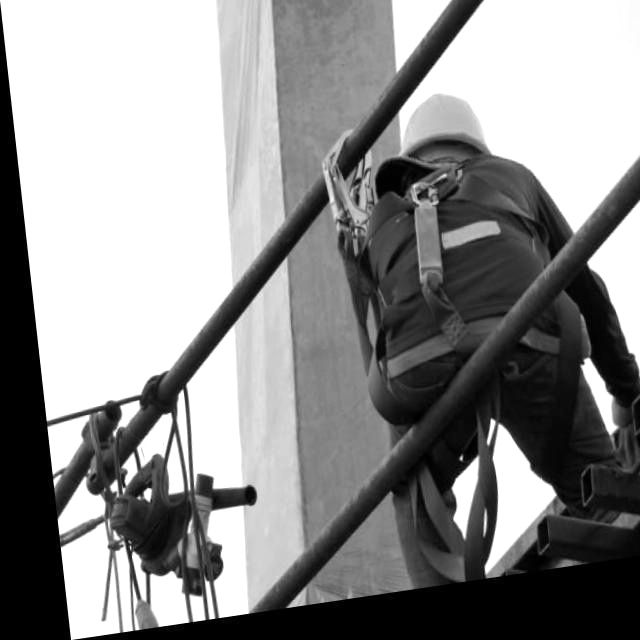safety belt: (333, 150, 594, 405)
